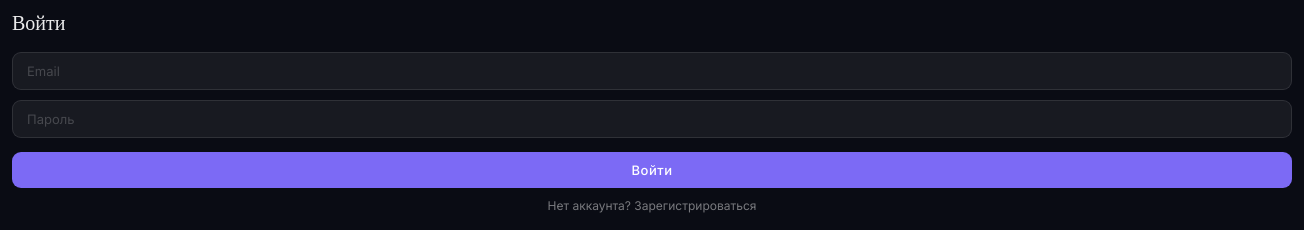
AuthForm — валидация и взаимодействие › кнопка недоступна во время загрузки
Step 1. Type "t@t.com" into the field with placeholder "Email" → (652, 71), box [12,52,1292,90]
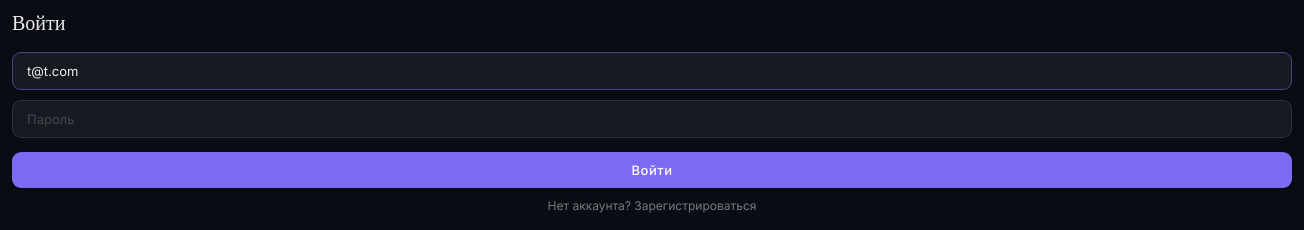
Step 2. Type "p" into the password field with placeholder "Пароль" → (652, 119), box [12,100,1292,138]
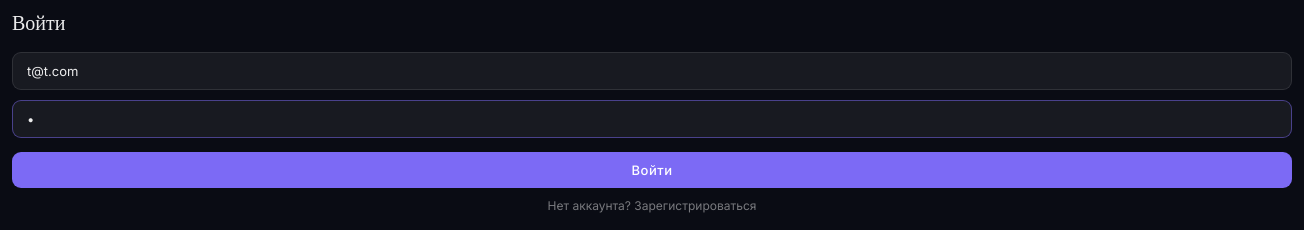
Step 3. Click the button "Войти" → click(652, 170), box [12,152,1292,188]
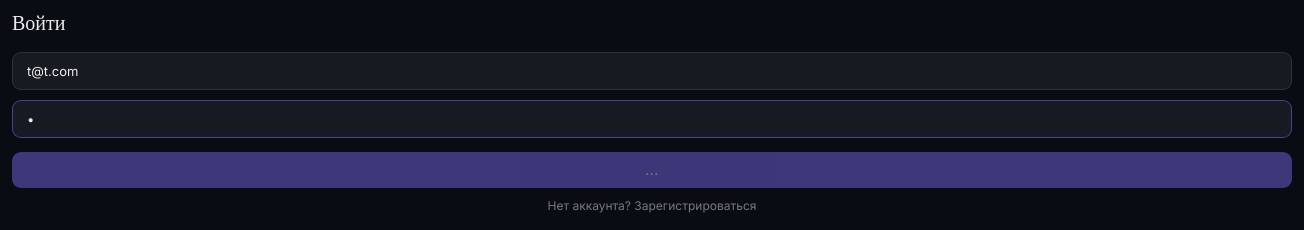
Now the button "..." is disabled, box [12,152,1292,188]
